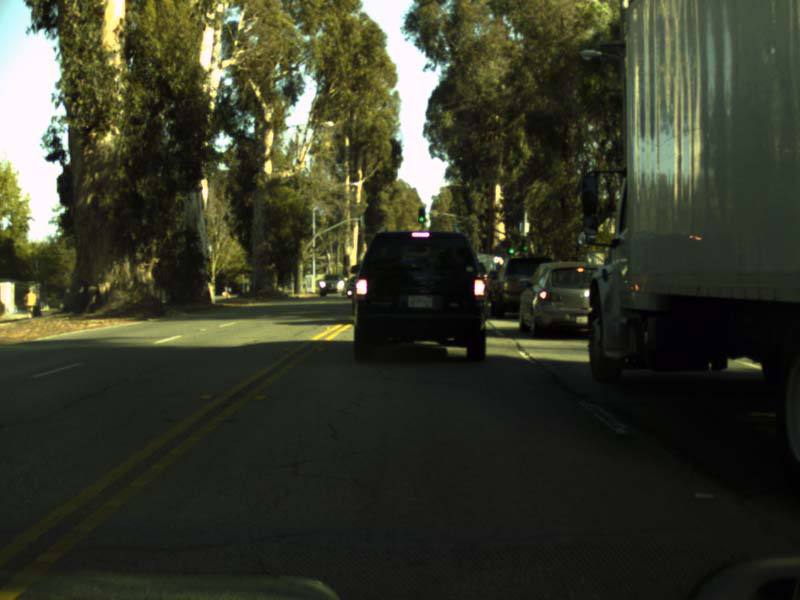Green: (418, 207, 424, 222), (521, 239, 528, 251), (508, 243, 514, 254)
